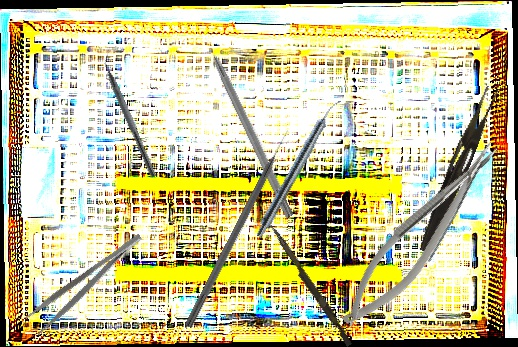Chopper: (95, 47, 166, 179)
Dressing Forceps: (416, 83, 500, 256), (23, 231, 152, 336)
Handpiece: (253, 95, 343, 241)
Hook Surgical: (184, 128, 294, 330), (201, 33, 296, 219)
Needle Holder: (327, 134, 517, 338)
Pusher: (264, 223, 356, 347)
